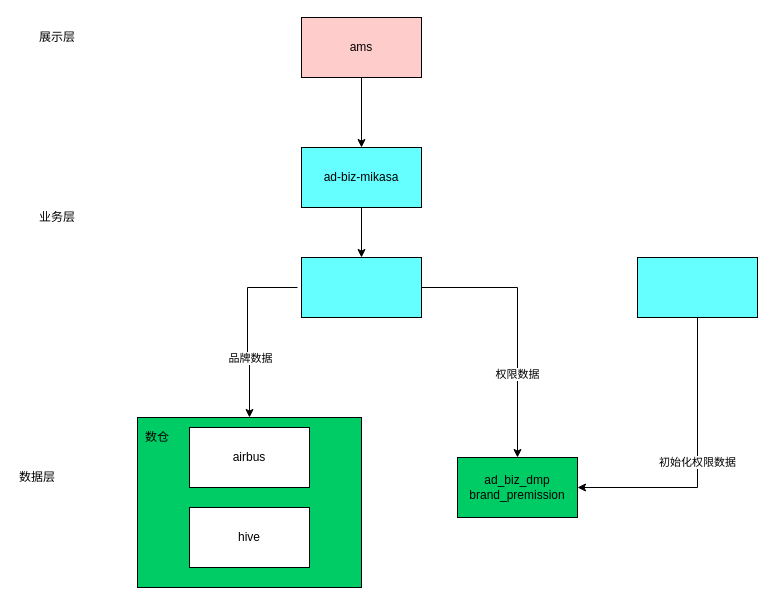
The diagram is 775 pixels wide and 605 high, and some of its shapes have lost their labels. The shapes that lost their labels are listed below. From the top down, each one's centre as x and y in pixels, then its label:
At point (361, 287): "ad-biz-universal-api".
At point (697, 287): "ad-biz-universal-task".
